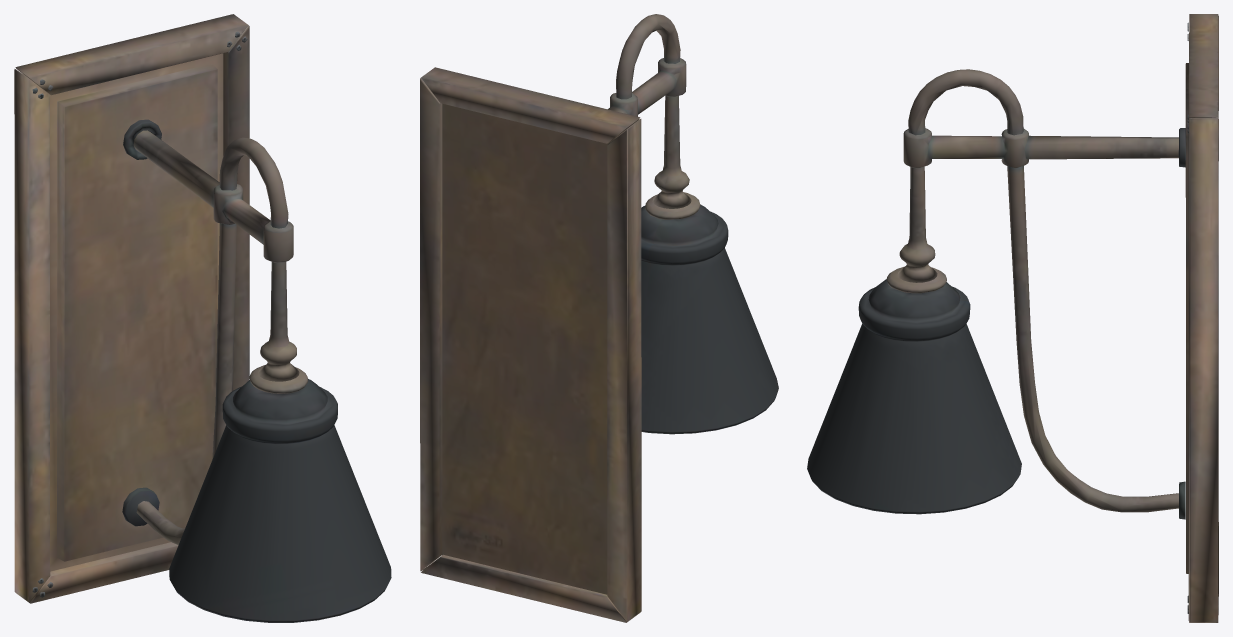
Rendered from sconce.glb.
The picture shows the model from 3 angles, left to right: view 1: azimuth 30°, elevation 25°; view 2: azimuth 150°, elevation 25°; view 3: azimuth 270°, elevation 25°; orthographic projection. The views are drawn at different scales.
Visible parts, largest first — view 1: industrial_wall_sconce; view 2: industrial_wall_sconce; view 3: industrial_wall_sconce.
Part boxes in pixels (bbox=[...]): industrial_wall_sconce: bbox=[14, 14, 391, 622]; industrial_wall_sconce: bbox=[420, 14, 778, 622]; industrial_wall_sconce: bbox=[807, 14, 1218, 622].
Bounding box in the file's own units: 0.1503 × 0.3413 × 0.2516.
Materials: 2 (2 with a texture image).
